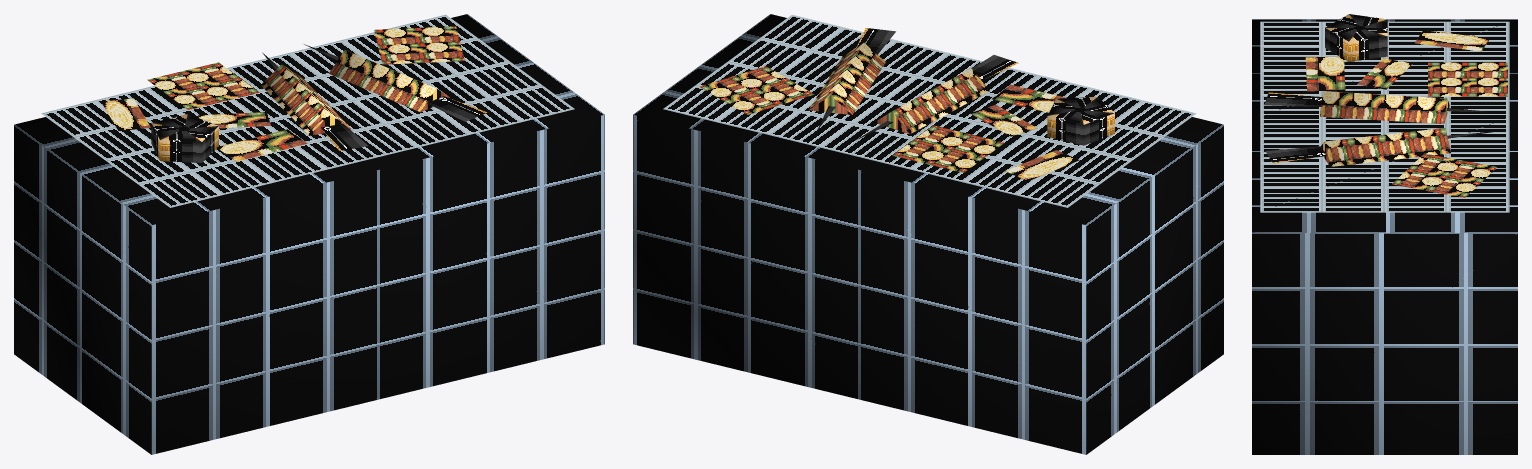
File: 3424IMIG20_23.gltf
The picture shows the model from 3 angles, left to right: view 1: azimuth 30°, elevation 25°; view 2: azimuth 150°, elevation 25°; view 3: azimuth 270°, elevation 25°; orthographic projection. The views are drawn at different scales.
Visible parts, largest first — view 1: 3424IMIG20_23; view 2: 3424IMIG20_23; view 3: 3424IMIG20_23.
Part boxes in pixels (x1,y1,x2,y2): 3424IMIG20_23: (14, 14, 604, 454); 3424IMIG20_23: (633, 14, 1223, 454); 3424IMIG20_23: (1252, 14, 1517, 454).
Size of the model in its own units: 1.52 by 0.8447 by 0.7988.
Materials: 4 (4 with a texture image).
